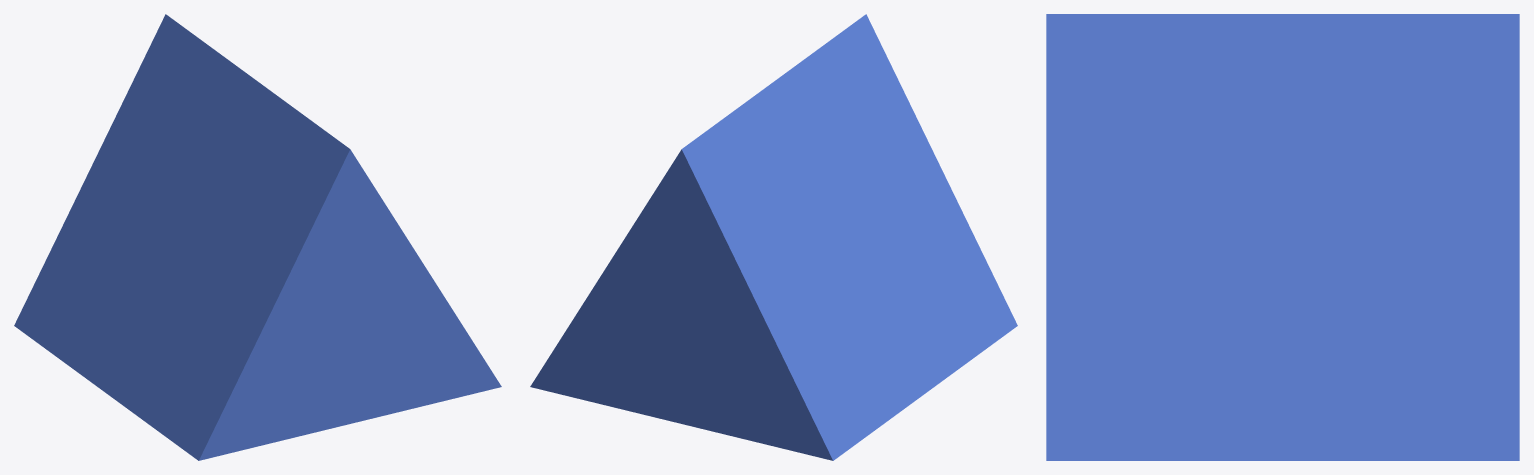
The model's file is asset.glb.
3 views of the same model, side by side, from view 1: azimuth 30°, elevation 25°; view 2: azimuth 150°, elevation 25°; view 3: azimuth 270°, elevation 25° (orthographic). The views are drawn at different scales.
Parts seen in each view (by area): view 1: 3DGeom-1; view 2: 3DGeom-1; view 3: 3DGeom-1.
Boxes of the visible parts, x1=… form: 3DGeom-1: x1=14, y1=14, x2=501, y2=460; 3DGeom-1: x1=530, y1=14, x2=1017, y2=460; 3DGeom-1: x1=1046, y1=14, x2=1519, y2=460.
Size of the model in its own units: 0.4597 by 0.3981 by 0.4848.
